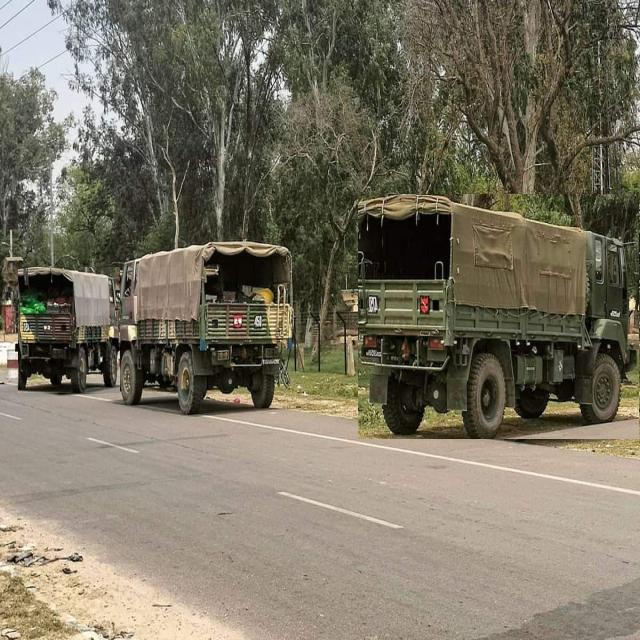truck: (359, 195, 639, 439), (114, 242, 292, 414), (19, 268, 120, 393)
